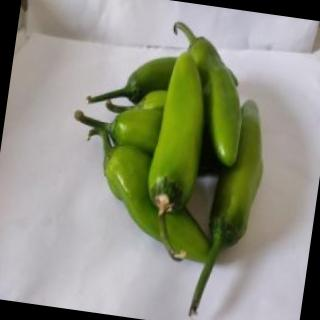Cabai Hijau: (173, 89, 274, 320), (134, 47, 220, 269)
